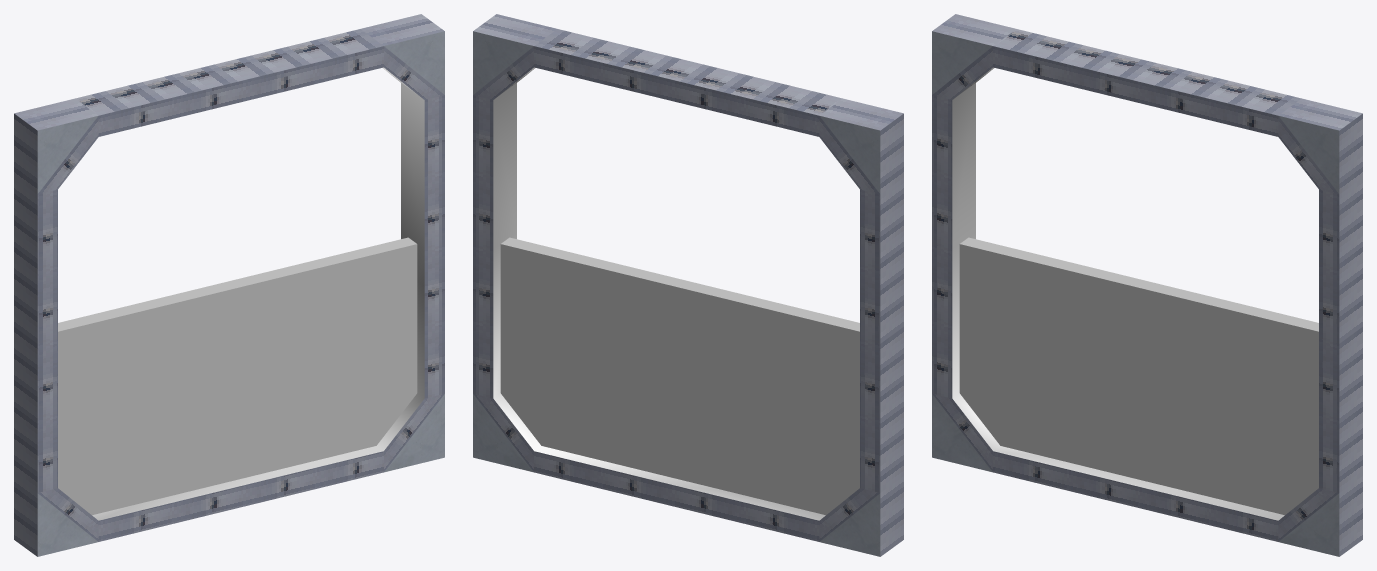
Rendered from core_door.dae.
The picture shows the model from 3 angles, left to right: view 1: azimuth 30°, elevation 25°; view 2: azimuth 150°, elevation 25°; view 3: azimuth 330°, elevation 25°; orthographic projection.
Parts seen in each view (by area): view 1: door, frame; view 2: door, frame; view 3: door, frame.
Part boxes in pixels (<box>): door: <box>58,237,417,515</box>; frame: <box>14,14,444,556</box>; door: <box>500,237,859,515</box>; frame: <box>473,14,903,556</box>; door: <box>959,237,1318,515</box>; frame: <box>932,14,1362,556</box>.
Size of the model in its own units: 80 by 8 by 80.
5 materials, 2 textured.
